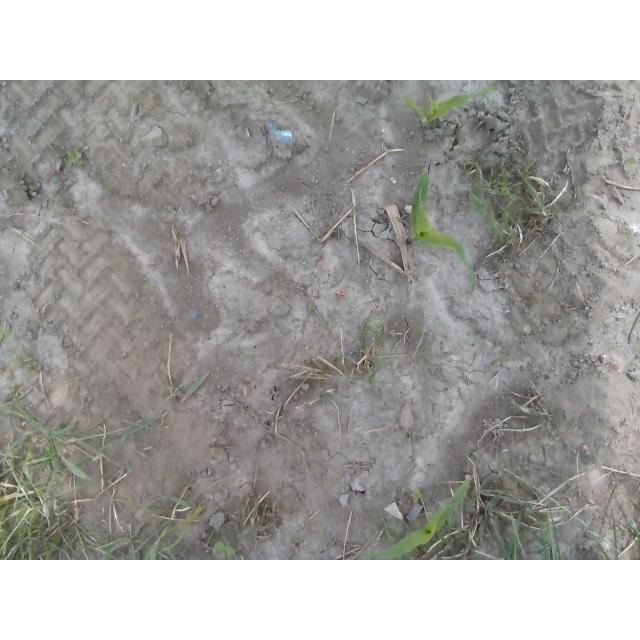Maize: (357, 478, 471, 560), (405, 164, 477, 276), (400, 87, 497, 125)
Weeds: (8, 352, 43, 376), (63, 144, 85, 168), (212, 540, 236, 558), (408, 487, 422, 504), (624, 153, 637, 171), (493, 353, 507, 367), (0, 324, 12, 340), (141, 282, 151, 290)
